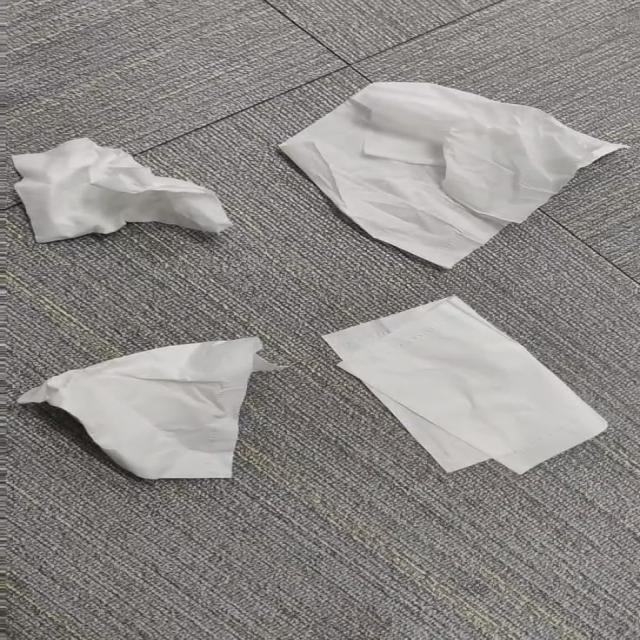paper: (281, 82, 624, 268), (326, 297, 605, 473), (19, 338, 275, 479), (13, 139, 231, 242)
